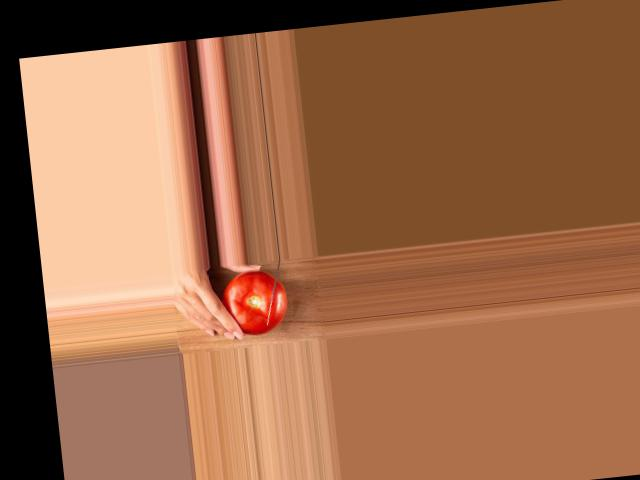tomato: (219, 268, 289, 337)
